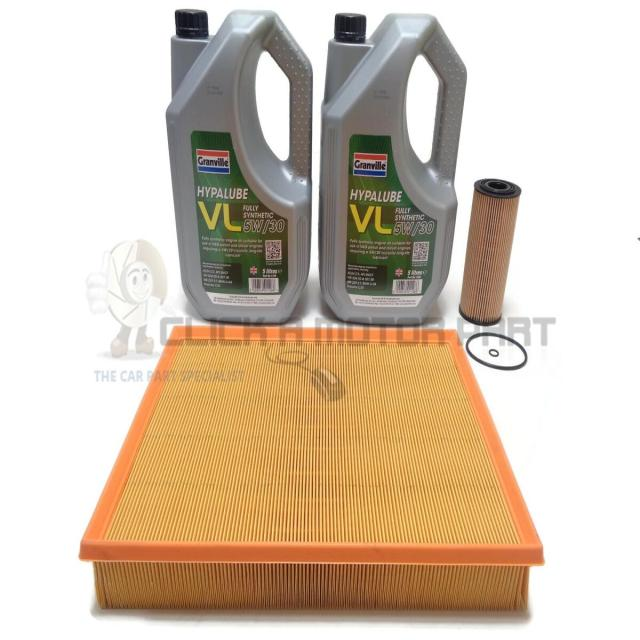air_filter: (42, 324, 569, 623)
motor_oil: (165, 6, 312, 324), (323, 11, 458, 321)
oil_filter: (463, 175, 524, 333)
